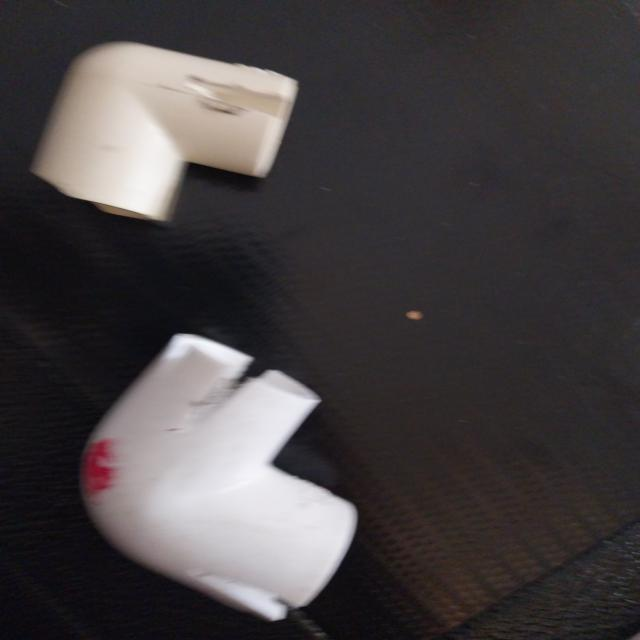Defective: (193, 327, 297, 417), (191, 552, 296, 622), (186, 74, 281, 126)
L Joint: (71, 337, 363, 629), (28, 42, 300, 225)
